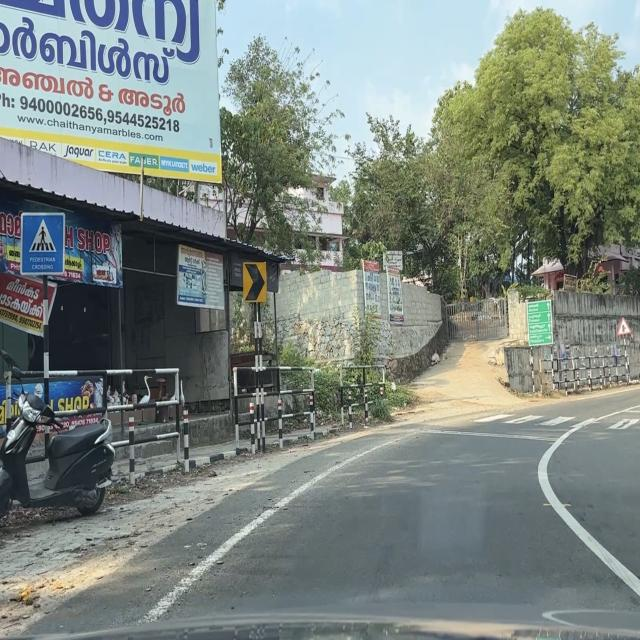GENERAL: (526, 299, 554, 347)
PEDESTRIAN_CROSSING: (19, 210, 66, 277)
SIDE_ROAD_RIGHT: (616, 316, 632, 337)
TURN_RIGHT: (242, 260, 268, 304)
